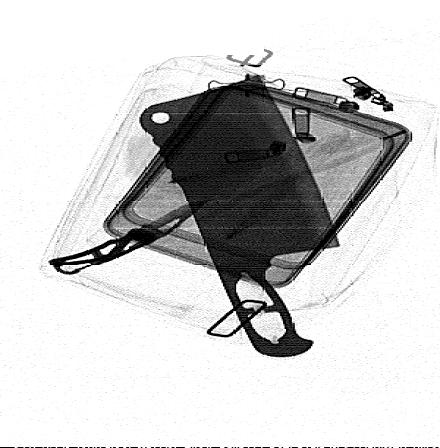Knife: (137, 74, 342, 358), (47, 199, 211, 276)
